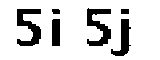5: (79, 5, 113, 50), (12, 6, 45, 49)
i: (49, 5, 66, 51)
j: (113, 5, 139, 60)
